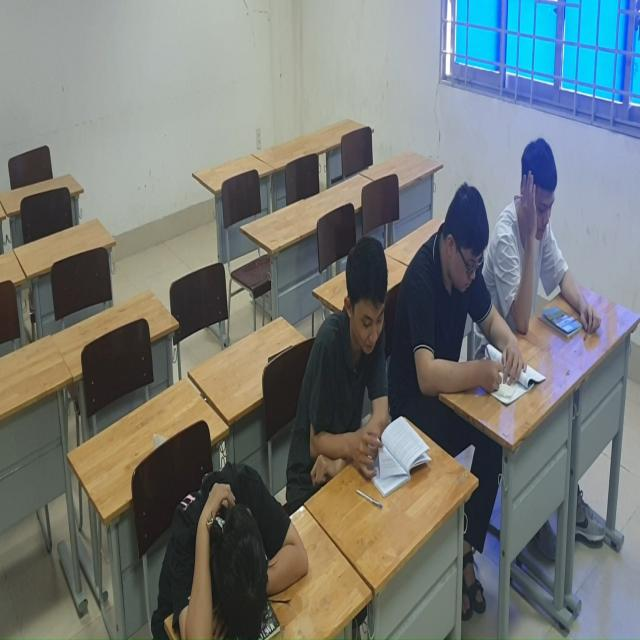raise_hand: (485, 120, 603, 359)
read: (417, 184, 529, 431), (311, 274, 421, 504)
sleep: (169, 481, 311, 640)
